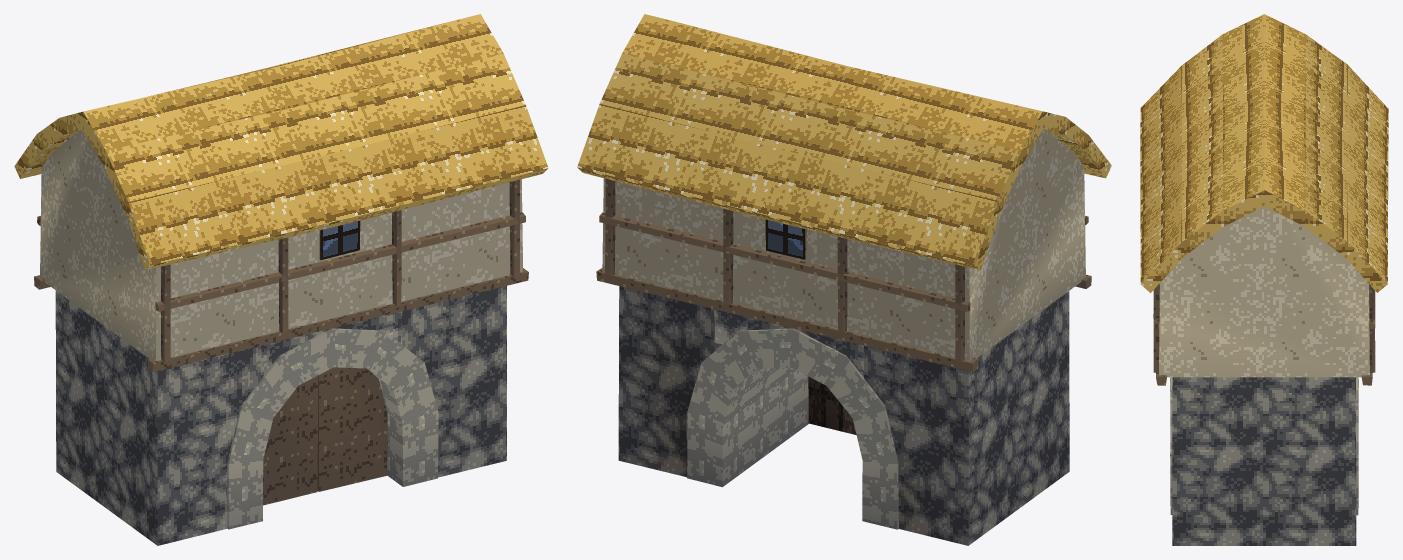
Rendered from vlg.gatehouse.glb.
The picture shows the model from 3 angles, left to right: view 1: azimuth 30°, elevation 25°; view 2: azimuth 150°, elevation 25°; view 3: azimuth 270°, elevation 25°; orthographic projection. The views are drawn at different scales.
Parts seen in each view (by area): view 1: kit_roof, kit_stonework, kit_walls, kit_fittings, kit_frame; view 2: kit_roof, kit_stonework, kit_walls, kit_frame, kit_fittings; view 3: kit_roof, kit_stonework, kit_walls, kit_frame.
Boxes of the visible parts, <box> form: kit_roof: <box>14,14,548,270</box>; kit_stonework: <box>55,286,506,545</box>; kit_walls: <box>40,130,523,361</box>; kit_fittings: <box>263,220,387,505</box>; kit_frame: <box>34,180,528,371</box>; kit_roof: <box>577,14,1111,270</box>; kit_stonework: <box>618,286,1069,545</box>; kit_walls: <box>602,130,1085,361</box>; kit_frame: <box>596,179,1091,371</box>; kit_fittings: <box>765,219,856,434</box>; kit_roof: <box>1140,14,1388,293</box>; kit_stonework: <box>1170,377,1358,545</box>; kit_walls: <box>1159,206,1369,377</box>; kit_frame: <box>1153,284,1375,385</box>.
Size of the model in its own units: 9.12 by 8.82 by 5.41.
8 materials, 8 textured.
